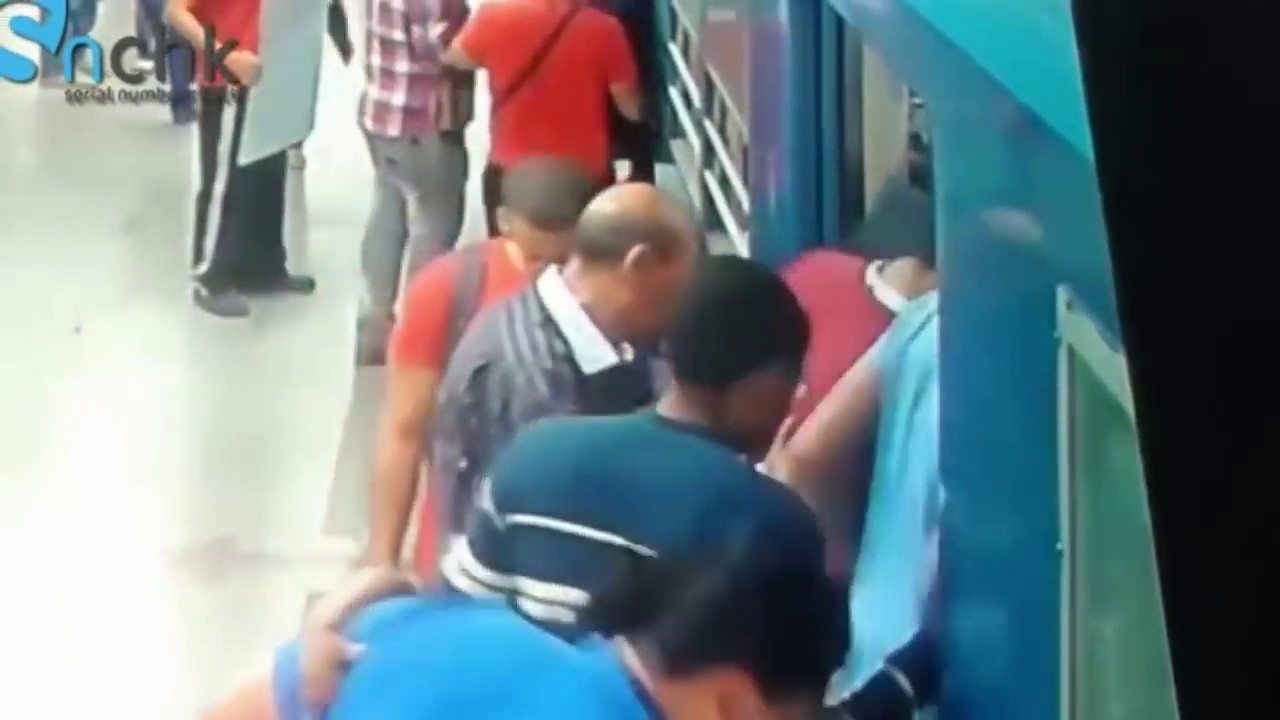face: (511, 213, 559, 268)
